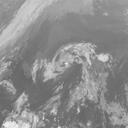cyclone: (40, 40, 100, 84)
